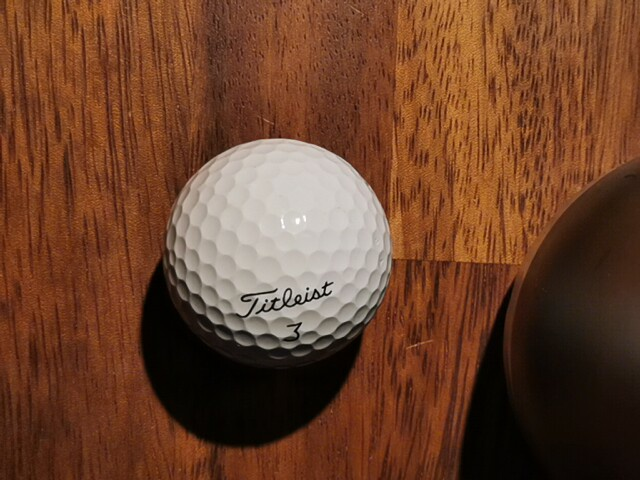Ball: (163, 138, 392, 370)
Titleist: (235, 280, 334, 319)
